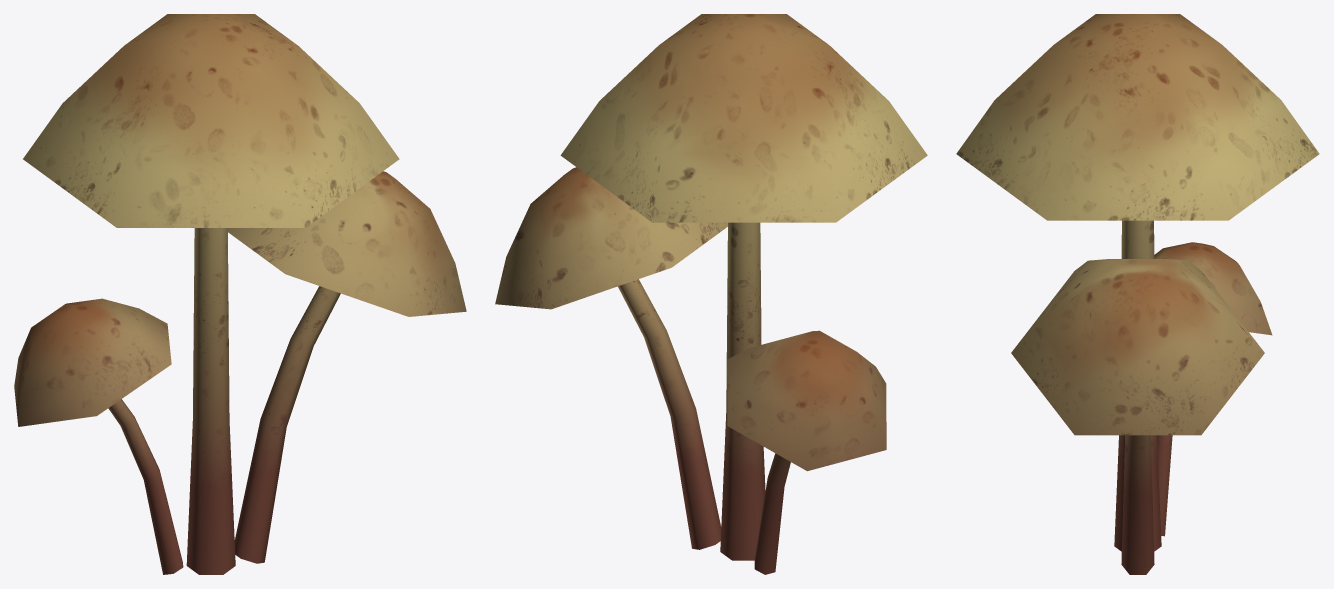
The model's file is art_3D model_Environment_Mycenia 22.fbx.
The picture shows the model from 3 angles, left to right: view 1: azimuth 30°, elevation 25°; view 2: azimuth 150°, elevation 25°; view 3: azimuth 270°, elevation 25°; orthographic projection. The views are drawn at different scales.
Parts seen in each view (by area): view 1: Jamur mycenia; view 2: Jamur mycenia; view 3: Jamur mycenia.
Part boxes in pixels (bbox=[...]): Jamur mycenia: bbox=[14, 14, 466, 574]; Jamur mycenia: bbox=[495, 14, 927, 574]; Jamur mycenia: bbox=[956, 14, 1319, 574].
Bounding box in the file's own units: 13.98 × 18.66 × 11.63.
Materials: 1 (1 with a texture image).
